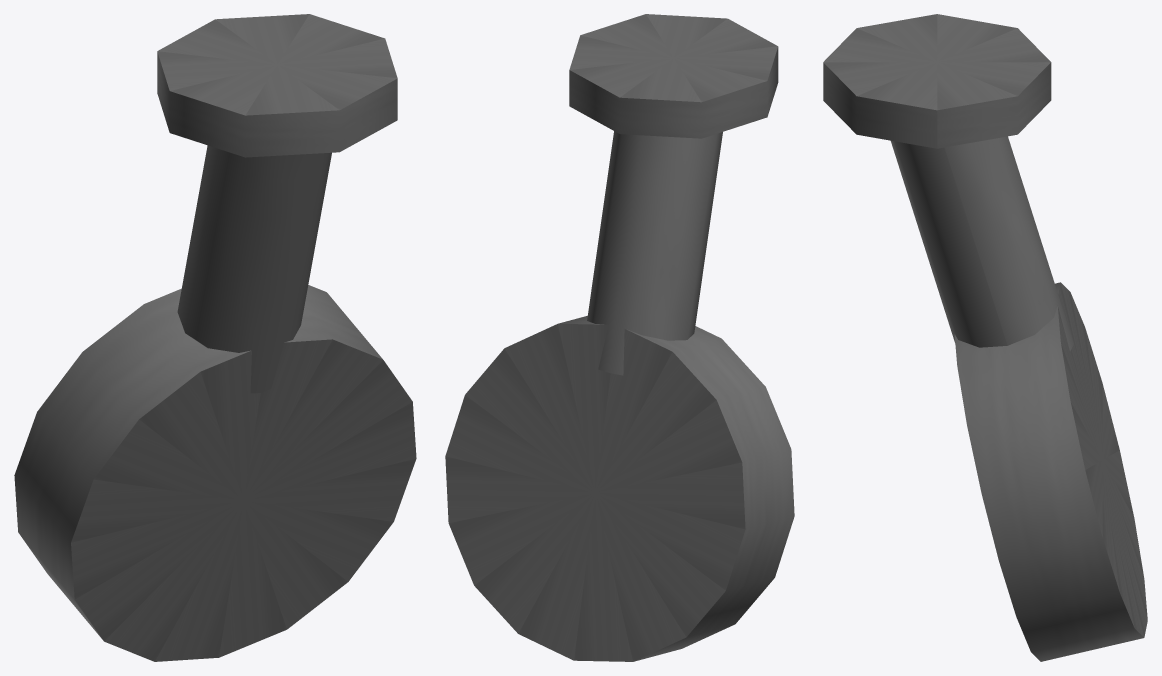
Rendered from mastarmcurve_6x2_c5_up.obj.
The picture shows the model from 3 angles, left to right: view 1: azimuth 30°, elevation 25°; view 2: azimuth 150°, elevation 25°; view 3: azimuth 270°, elevation 25°; orthographic projection. The views are drawn at different scales.
Visible parts, largest first — view 1: mastarm_6x2_c5_up; view 2: mastarm_6x2_c5_up; view 3: mastarm_6x2_c5_up.
Boxes of the visible parts, x1,y1,x2,y2 form: mastarm_6x2_c5_up: (14,14,416,661); mastarm_6x2_c5_up: (445,14,794,661); mastarm_6x2_c5_up: (823,14,1147,661).
Bounding box in the file's own units: 0.6413 × 1.13 × 0.5695.
